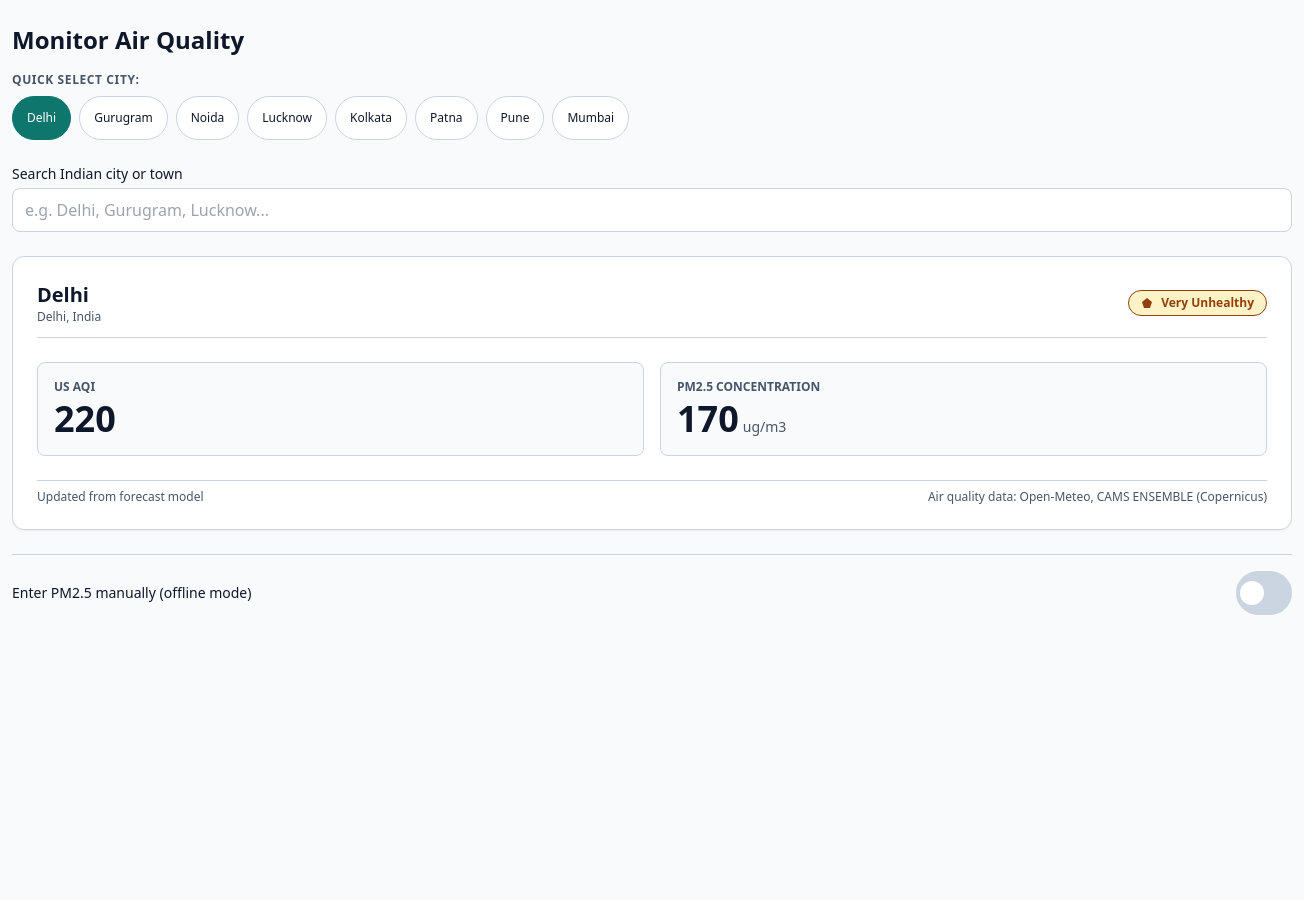
Test: LocationPanel Component › toggles manual entry and updates live card with manual override
Click the switch at (1264, 593), box [1236,571,1292,615]
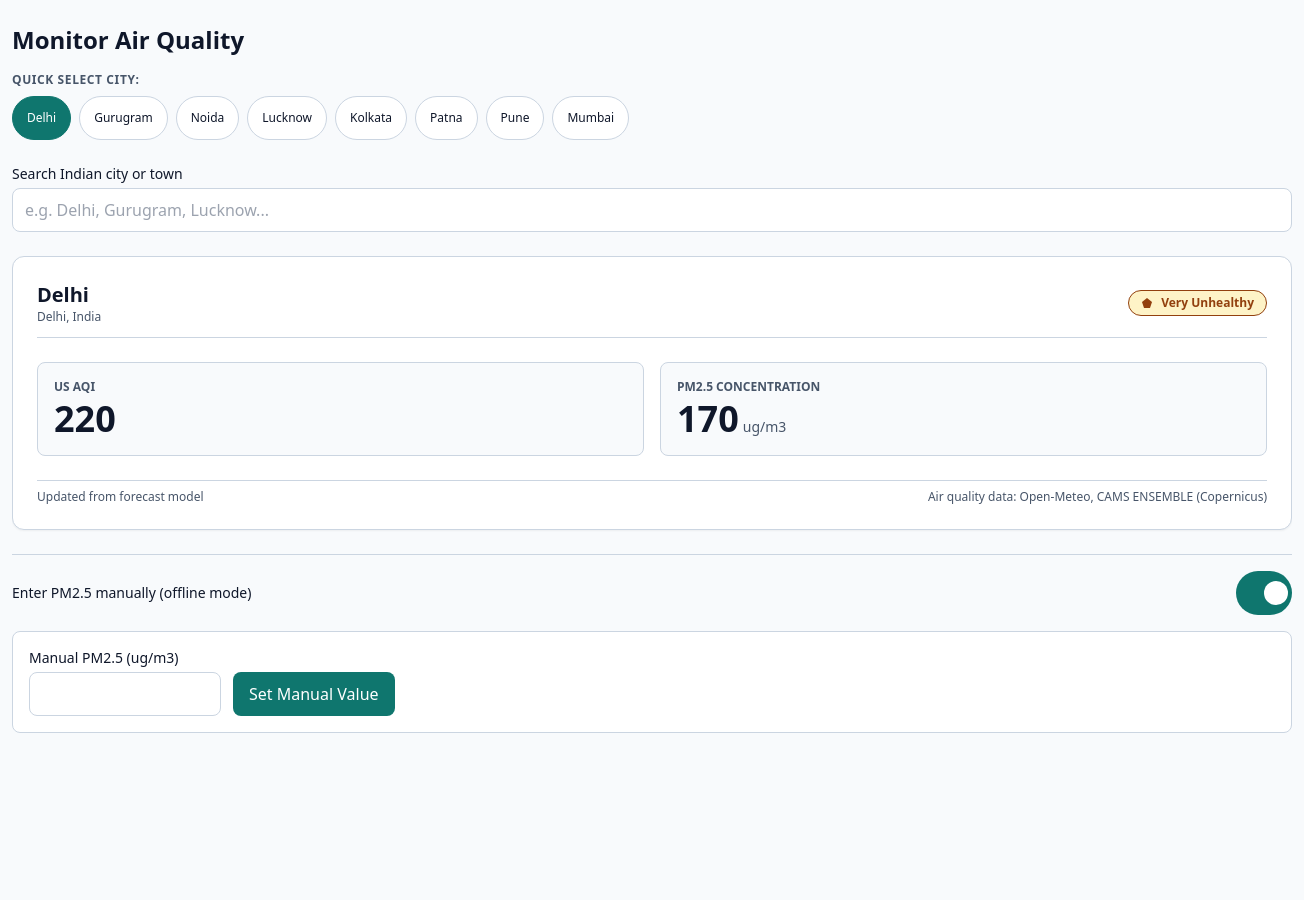
Type "350" into the number field labelled "Manual PM2.5 (ug/m3)" at (125, 694), box [29,672,221,716]
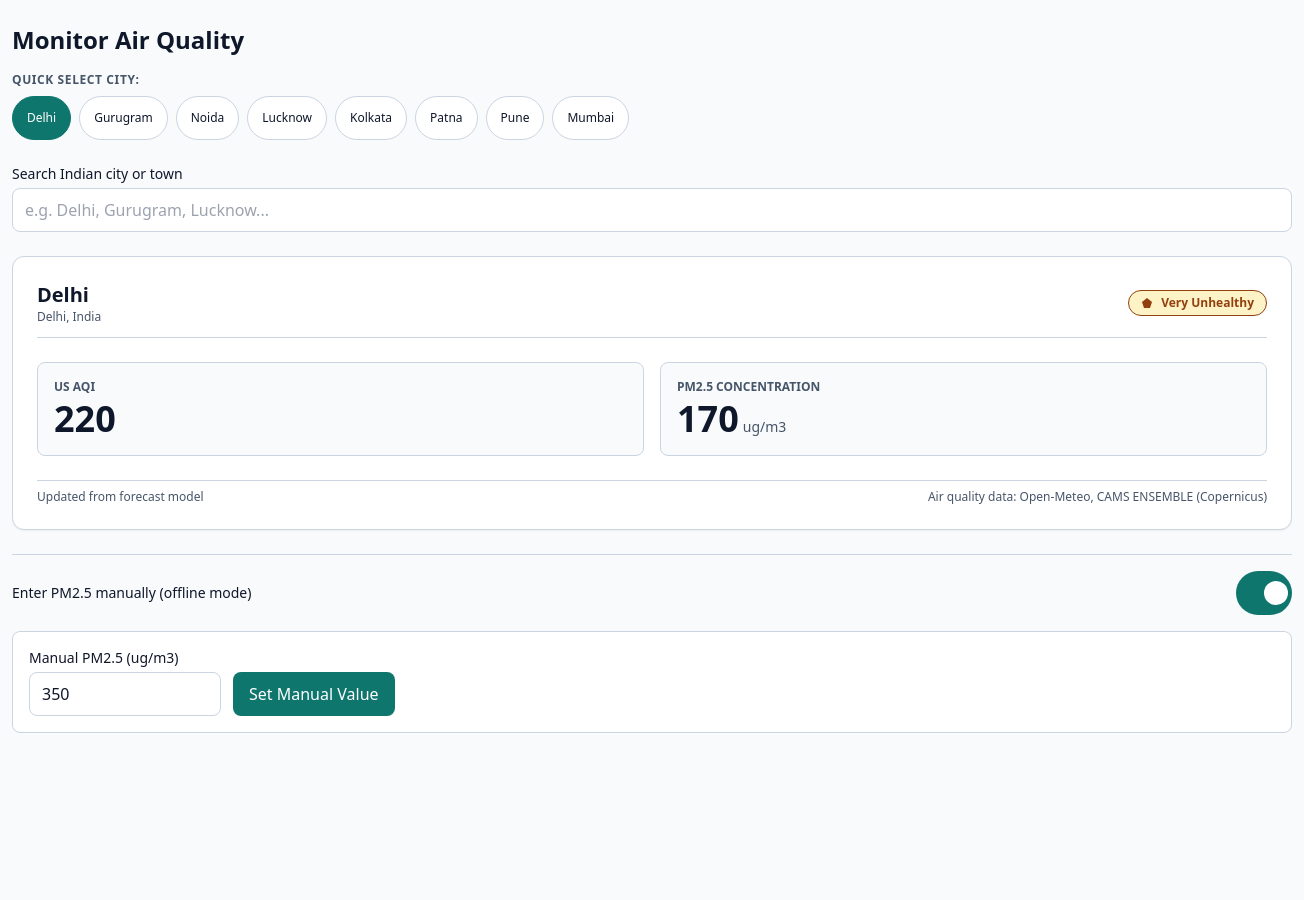
Click the button "Set Manual Value" at (314, 694), box [233,672,395,716]
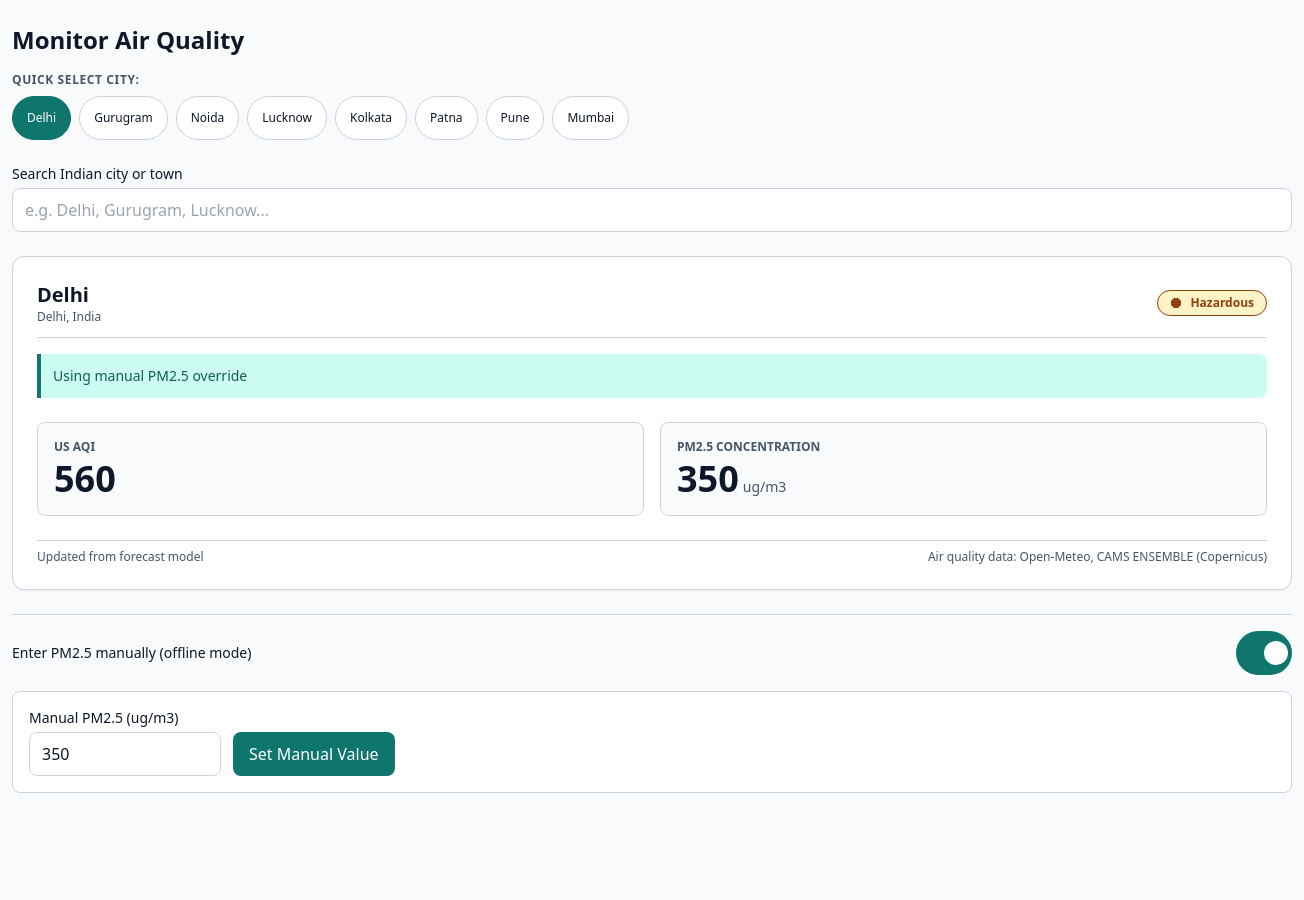
Result: the text "350" is shown at [677,459,739,499]
Result: the text "Using manual PM2.5 override" is shown at [37,354,1267,398]
